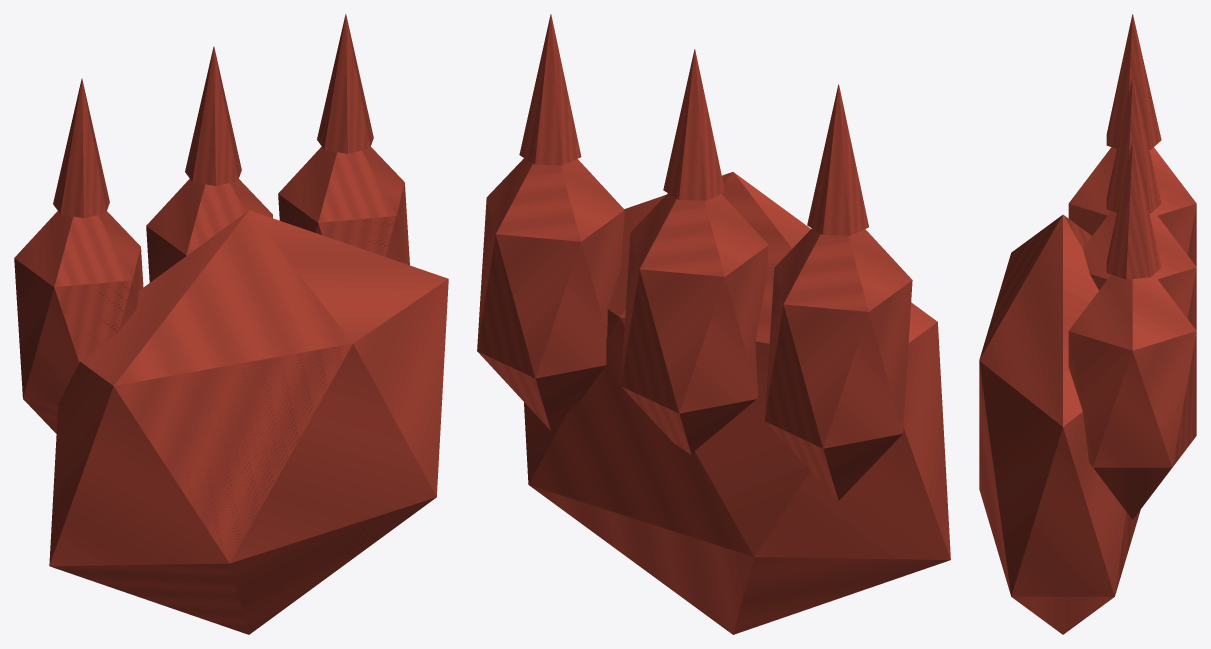
File: chain_fuse.glb
The picture shows the model from 3 angles, left to right: view 1: azimuth 30°, elevation 25°; view 2: azimuth 150°, elevation 25°; view 3: azimuth 270°, elevation 25°; orthographic projection. The views are drawn at different scales.
Parts seen in each view (by area): view 1: gear_chain_fuse; view 2: gear_chain_fuse; view 3: gear_chain_fuse.
Boxes of the visible parts, box(x1,y1,x2,y2) form: gear_chain_fuse: box(14, 14, 448, 634); gear_chain_fuse: box(477, 14, 950, 634); gear_chain_fuse: box(979, 14, 1196, 634).
Bounding box in the file's own units: 0.3935 × 0.53 × 0.1876.
1 material, 1 textured.
